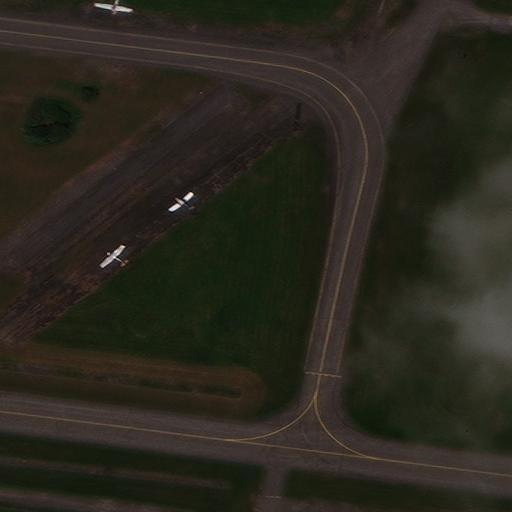Small Civil Transport: (94, 0, 132, 15), (99, 245, 125, 265), (167, 191, 193, 210)
